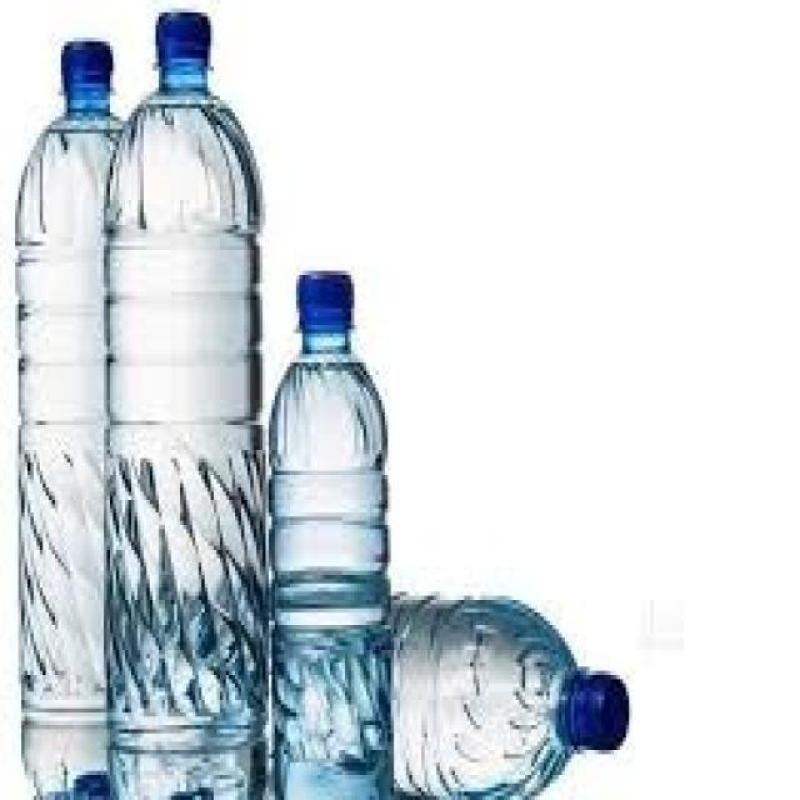botella: (101, 7, 270, 800), (14, 41, 124, 800), (270, 270, 391, 800), (388, 591, 632, 800)
